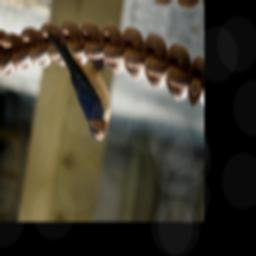Swallow: (22, 0, 127, 143)
